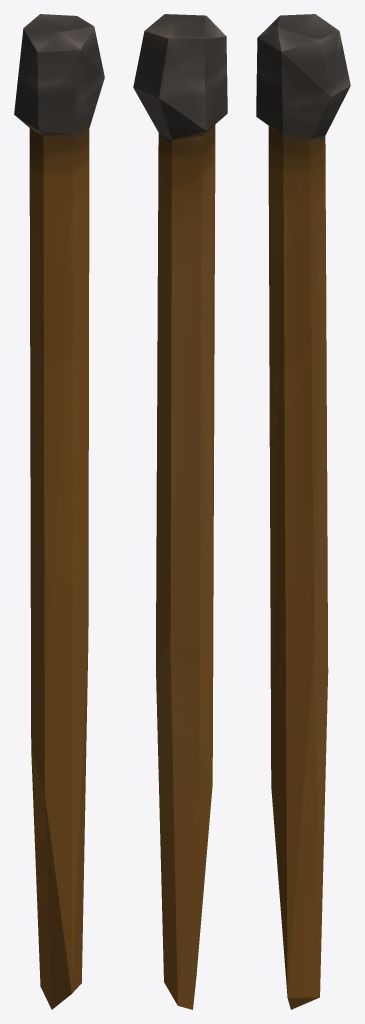
Rendered from Torch_02.fbx.
3 views of the same model, side by side, from view 1: azimuth 30°, elevation 25°; view 2: azimuth 150°, elevation 25°; view 3: azimuth 330°, elevation 25° (orthographic).
Visible parts, largest first — view 1: Torch_02; view 2: Torch_02; view 3: Torch_02.
Part boxes in pixels (x1,y1,x2,y2): Torch_02: (14, 14, 104, 1009); Torch_02: (133, 14, 227, 1009); Torch_02: (256, 14, 350, 1009).
Size of the model in its own units: 3.65 by 47.69 by 3.86.
Materials: 1 (1 with a texture image).
